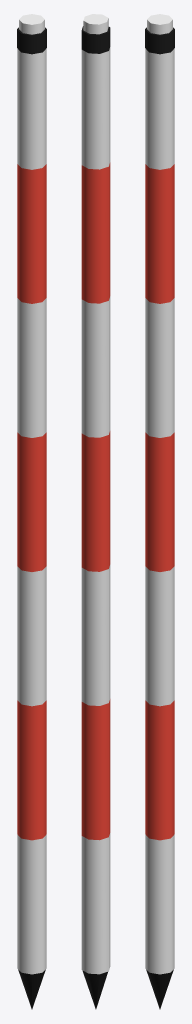
The model's file is pole.FBX.
3 views of the same model, side by side, from view 1: azimuth 90°, elevation 25°; view 2: azimuth 150°, elevation 25°; view 3: azimuth 270°, elevation 25° (orthographic).
Visible parts, largest first — view 1: Cylinder01, Cylinder03; view 2: Cylinder01, Cylinder03; view 3: Cylinder01, Cylinder03.
Part boxes in pixels (x1,y1,x2,y2): Cylinder01: (17,27,46,1009); Cylinder03: (19,14,44,34); Cylinder01: (81,26,110,1009); Cylinder03: (83,14,108,34); Cylinder01: (145,27,174,1009); Cylinder03: (147,14,172,34).
Bounding box in the file's own units: 4.04 × 4.04 × 148.
Materials: 1 (1 with a texture image).
